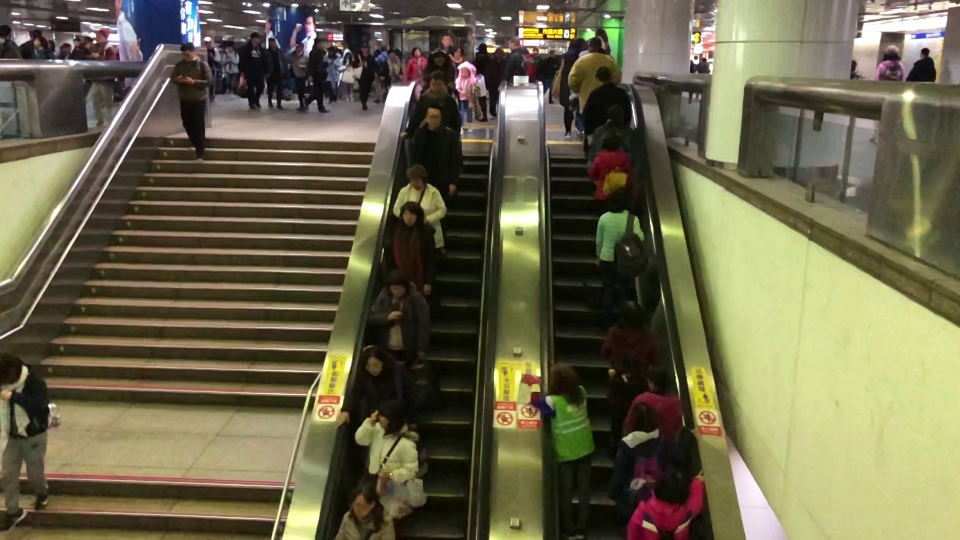person_head: (655, 466, 690, 502), (350, 484, 378, 519), (548, 361, 578, 391), (630, 400, 657, 433), (378, 399, 405, 430), (617, 299, 646, 327), (0, 352, 23, 386), (360, 344, 384, 375), (645, 365, 672, 390), (385, 268, 409, 296), (400, 200, 424, 224), (405, 162, 427, 188), (608, 188, 628, 213), (428, 70, 446, 93), (600, 131, 620, 150), (424, 103, 440, 125), (594, 65, 611, 85), (180, 41, 196, 61), (587, 36, 603, 54), (607, 106, 623, 123), (883, 44, 901, 59), (94, 27, 110, 41), (432, 50, 446, 66), (568, 37, 581, 51), (441, 32, 451, 50), (507, 35, 520, 48), (0, 24, 12, 37), (460, 64, 472, 77), (453, 46, 464, 58), (33, 37, 46, 47), (250, 32, 260, 45), (411, 45, 422, 56), (295, 42, 305, 54), (920, 46, 929, 57), (268, 37, 276, 49), (494, 47, 502, 59), (850, 59, 858, 71), (361, 42, 369, 53), (314, 39, 323, 48), (344, 49, 351, 59), (478, 43, 486, 51), (205, 37, 212, 46), (388, 49, 394, 58), (549, 50, 556, 57), (227, 44, 233, 52), (701, 57, 706, 62), (690, 59, 693, 64)
person_vbox: (521, 359, 595, 540), (599, 298, 662, 454), (609, 400, 699, 507), (0, 351, 51, 537), (408, 102, 463, 256), (594, 188, 649, 324), (335, 345, 418, 432), (624, 466, 705, 540), (369, 268, 429, 363), (353, 399, 419, 485), (382, 200, 437, 297), (170, 41, 212, 163), (392, 161, 447, 248), (623, 364, 683, 442), (399, 71, 462, 141), (567, 36, 621, 114), (587, 130, 638, 210), (581, 64, 631, 143), (868, 44, 904, 145), (334, 483, 395, 540), (586, 106, 637, 173), (84, 28, 117, 125), (555, 37, 581, 140), (239, 32, 270, 110), (302, 39, 331, 114), (353, 41, 376, 111), (475, 47, 496, 121), (503, 34, 535, 81), (288, 42, 309, 110), (266, 36, 285, 110), (456, 64, 475, 135), (905, 46, 937, 82), (204, 37, 219, 102), (223, 43, 239, 100), (403, 45, 428, 81), (696, 57, 713, 103), (0, 23, 22, 58), (381, 48, 400, 85), (342, 49, 355, 103), (687, 57, 697, 104), (32, 38, 51, 59), (492, 48, 504, 81), (849, 61, 867, 82)
